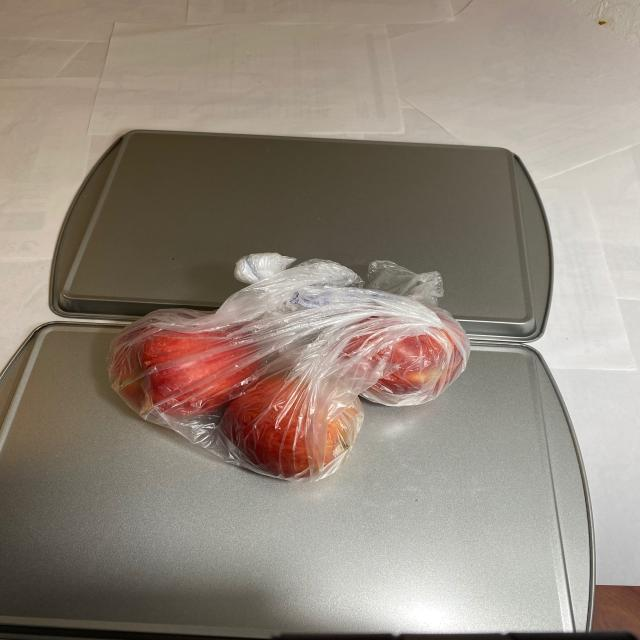apple: (103, 296, 468, 479)
